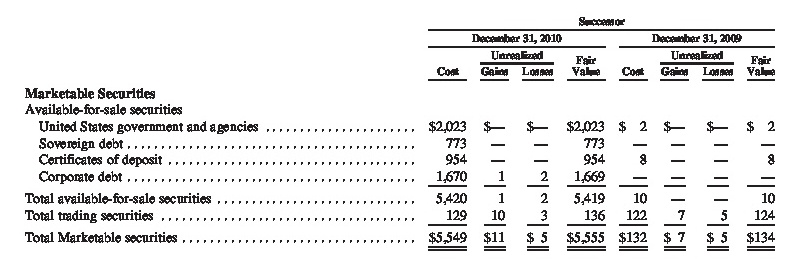table: (0, 0, 796, 274)
